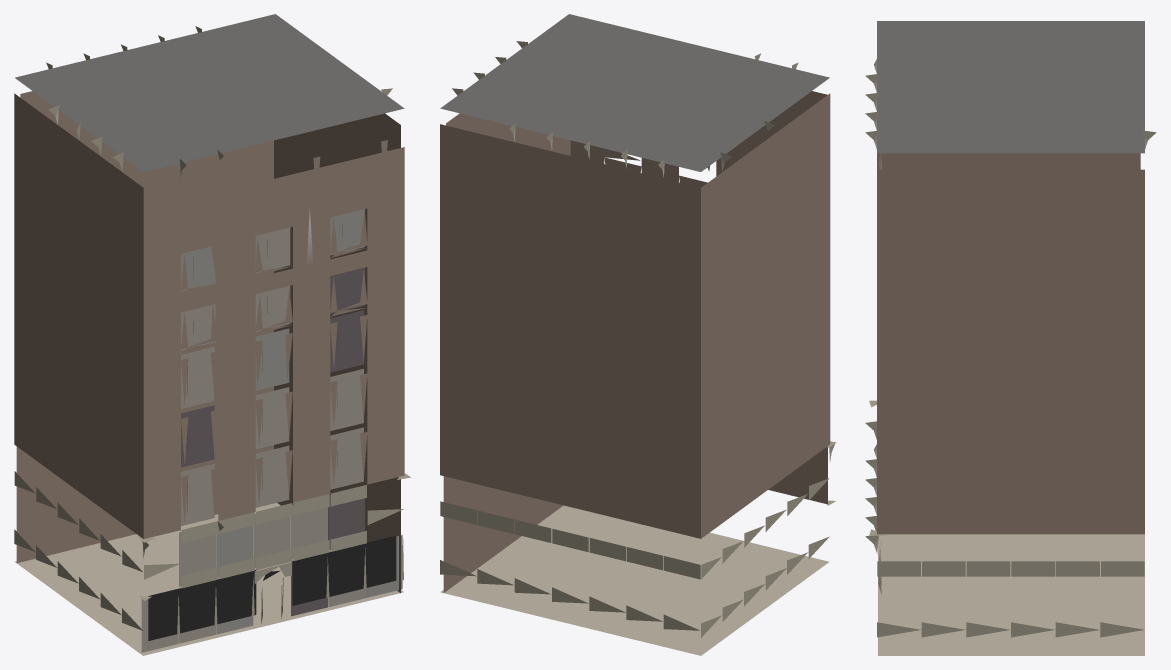
The model's file is downtown_medium_lod1.glb.
3 renders of one model, left to right at view 1: azimuth 30°, elevation 25°; view 2: azimuth 150°, elevation 25°; view 3: azimuth 270°, elevation 25°, orthographic. The views are drawn at different scales.
Visible parts, largest first — view 1: downtown_medium_lod1; view 2: downtown_medium_lod1; view 3: downtown_medium_lod1.
Part boxes in pixels (box(x1,y1,x2,y2)): downtown_medium_lod1: box(14, 14, 411, 655); downtown_medium_lod1: box(440, 14, 836, 655); downtown_medium_lod1: box(865, 21, 1156, 655).
Size of the model in its own units: 15.05 by 25 by 13.05.
